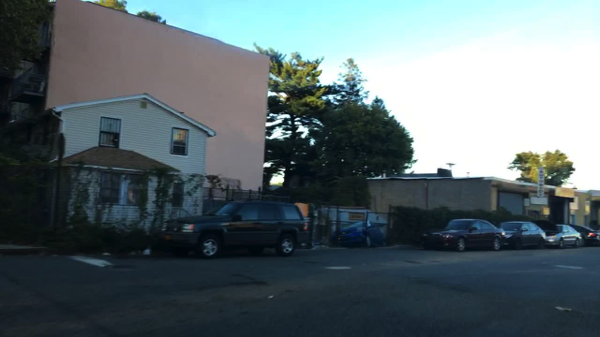car: (162, 200, 311, 258), (421, 219, 502, 252), (334, 220, 387, 249), (498, 220, 544, 252), (542, 224, 581, 248), (569, 223, 599, 244)
traffic sign: (523, 198, 529, 206)
